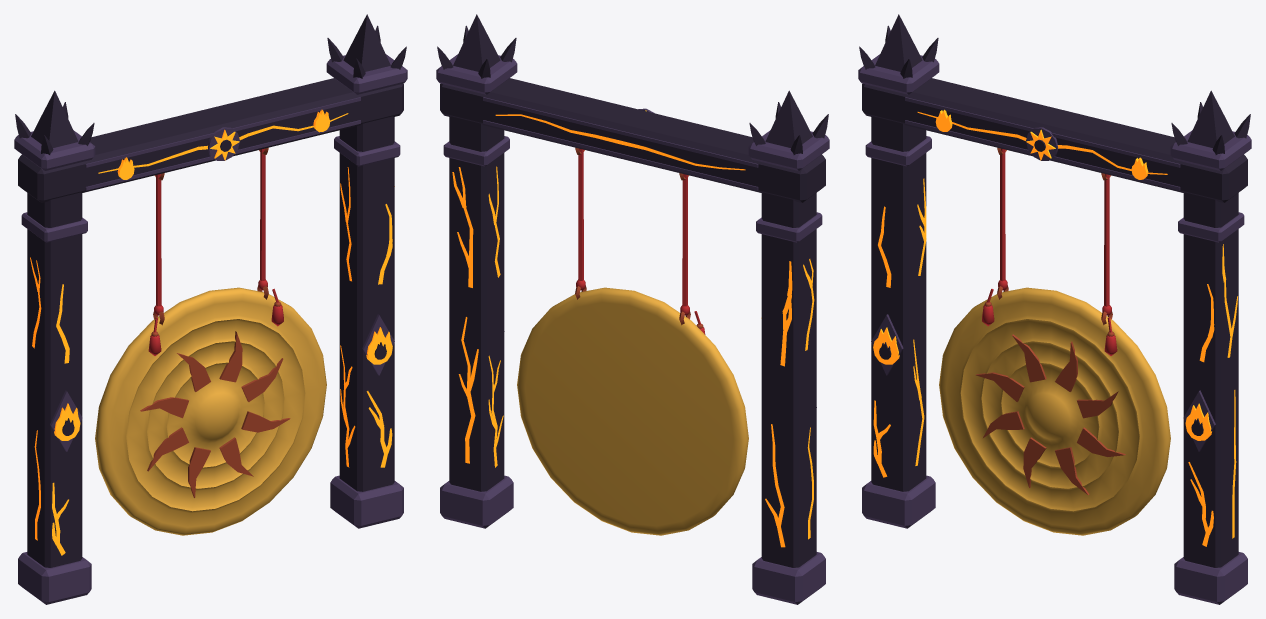
The model's file is gong.glb.
3 renders of one model, left to right at view 1: azimuth 30°, elevation 25°; view 2: azimuth 150°, elevation 25°; view 3: azimuth 330°, elevation 25°, orthographic.
Parts seen in each view (by area): view 1: body, disc; view 2: body, disc; view 3: body, disc.
Part boxes in pixels (x1,y1,x2,y2): body: [14, 14, 407, 604]; disc: [95, 148, 326, 535]; body: [436, 14, 829, 604]; disc: [517, 148, 748, 535]; body: [858, 14, 1251, 604]; disc: [939, 148, 1170, 535].
Bounding box in the file's own units: 1.76 × 2.3 × 0.26.
